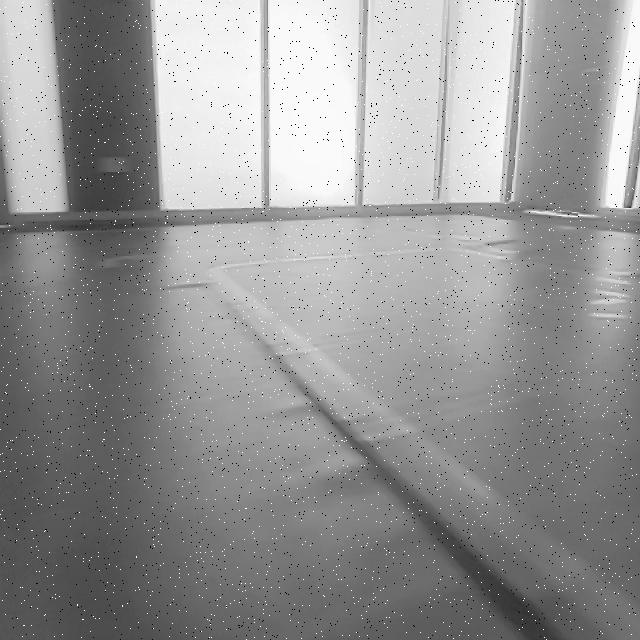right_lane: (220, 274, 640, 638)
